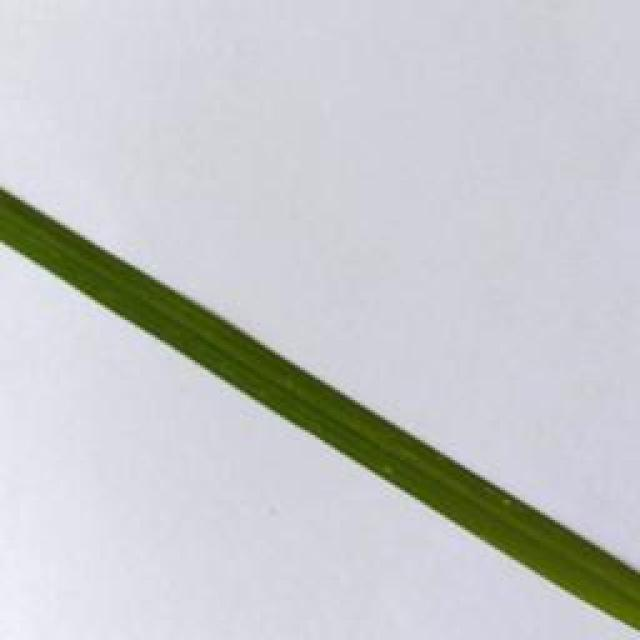Healthy-Plant: (1, 190, 196, 355)
